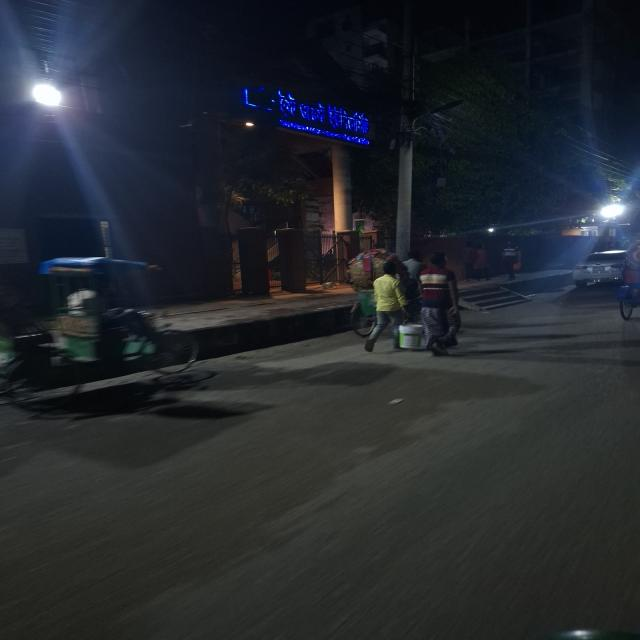car: (568, 249, 625, 291)
pedestrian: (413, 250, 467, 355), (368, 258, 407, 354)
